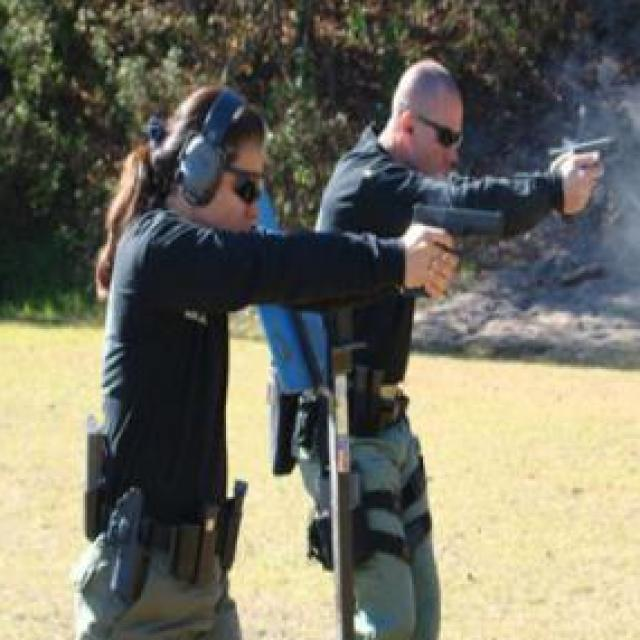pistol: (399, 204, 506, 303), (547, 130, 618, 225)
